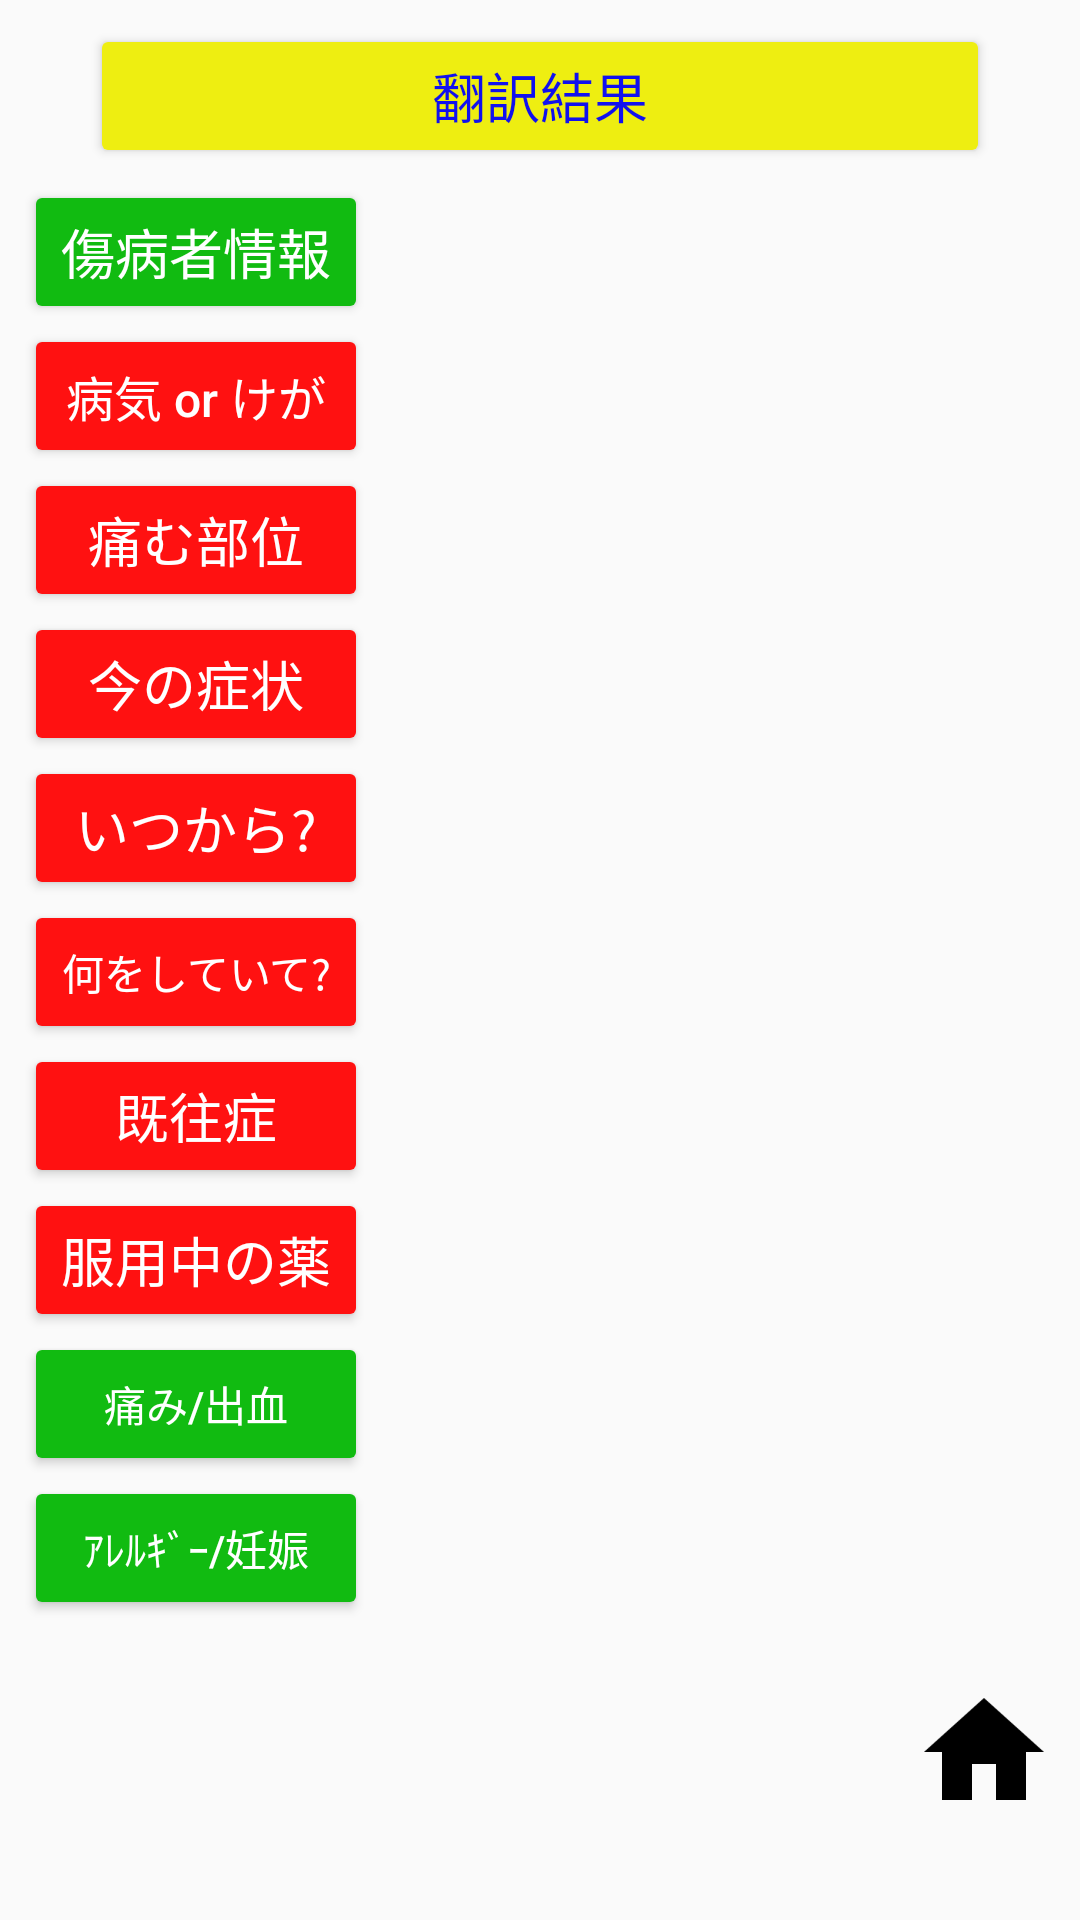

Icon click points for this 1080 x 1920 phone screenshot, format (x,y):
home: (984,1749)
